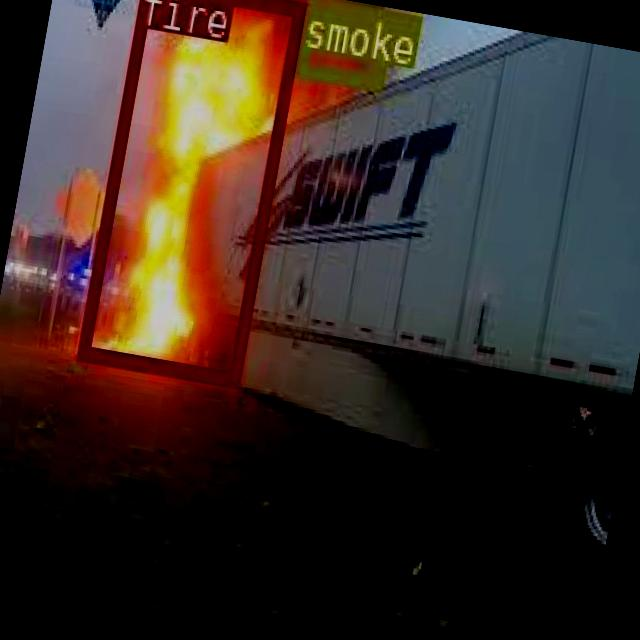fire: (75, 0, 303, 382)
smoke: (293, 0, 392, 89)
